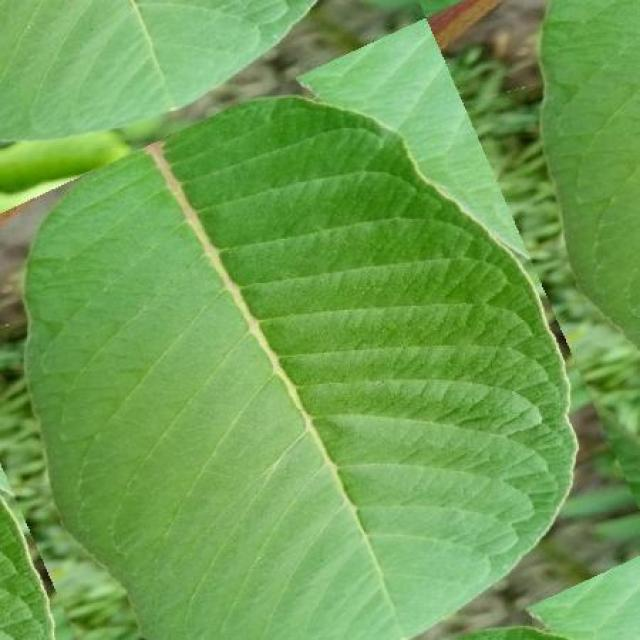Disease Free: (26, 99, 576, 640)
